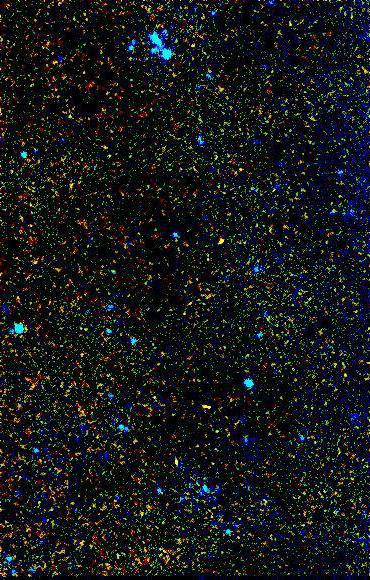star: (205, 226, 235, 256)
